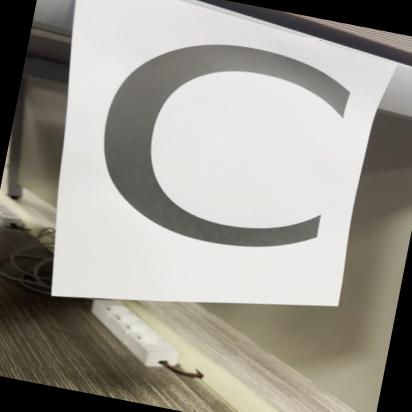seat: (64, 0, 388, 294)
